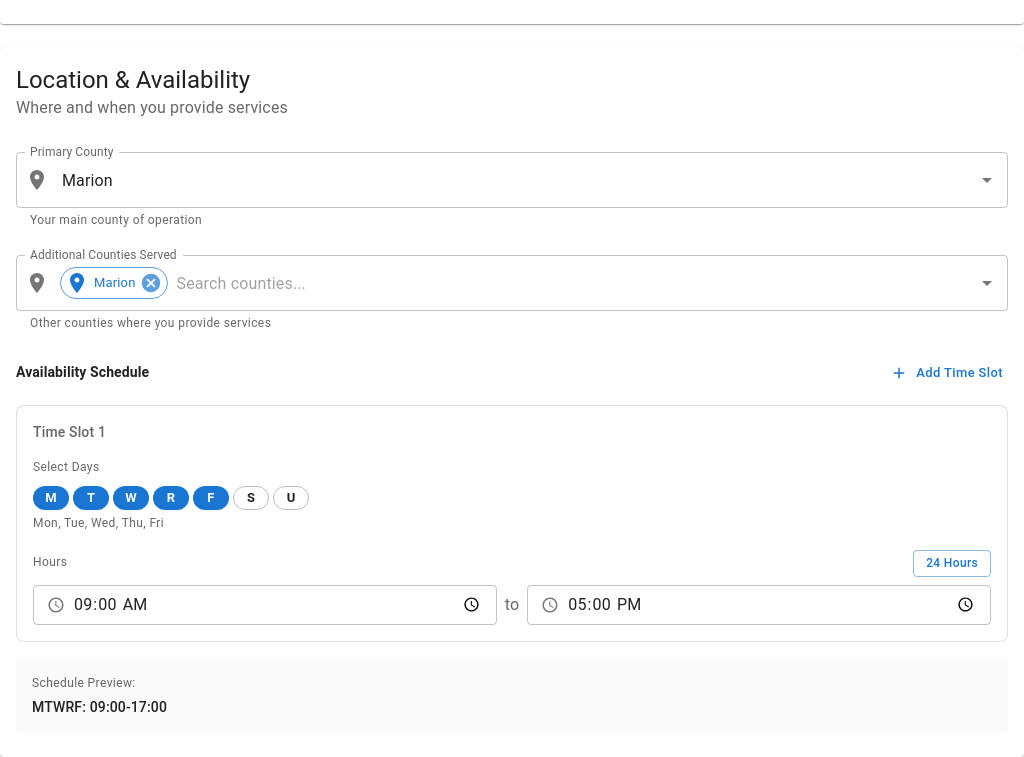
Edit Agency Page - Component Tests › Availability Schedule › Multiple Time Slots › can add a second time slot
(page scrolled)
Click the button "Add Time Slot".
click(948, 373)  # box [887,358,1008,389]
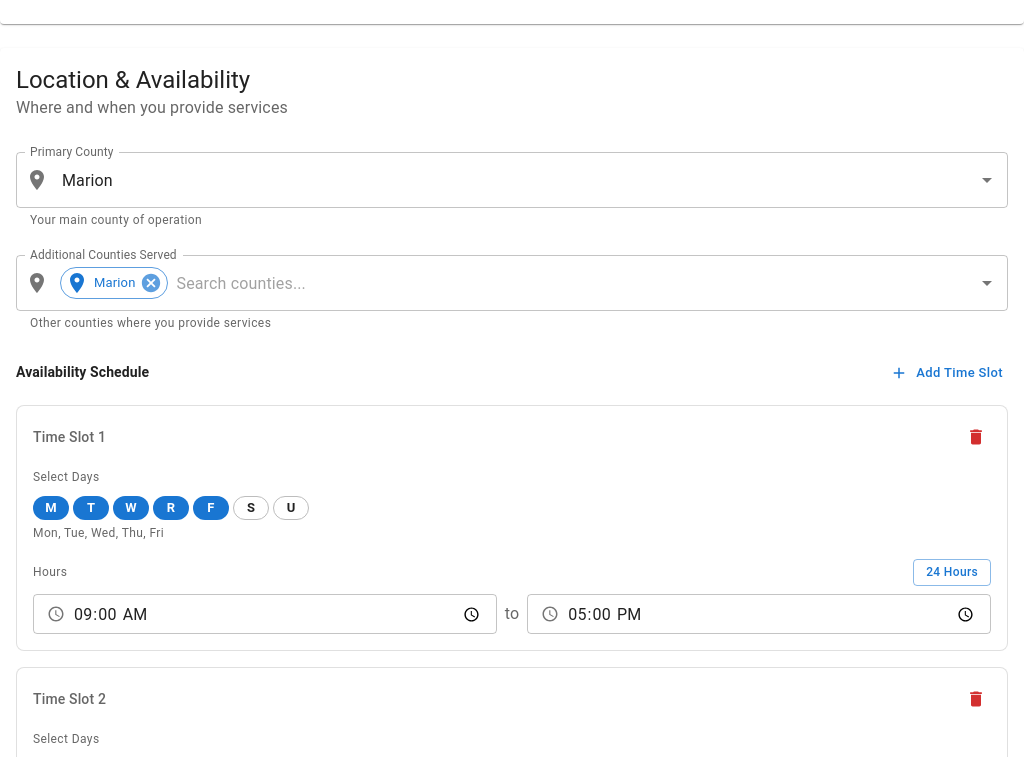
Expected: the text "Time Slot 1" is shown, [33,427,106,447]
Result: the text "Time Slot 2" is shown at [33,690,106,710]
